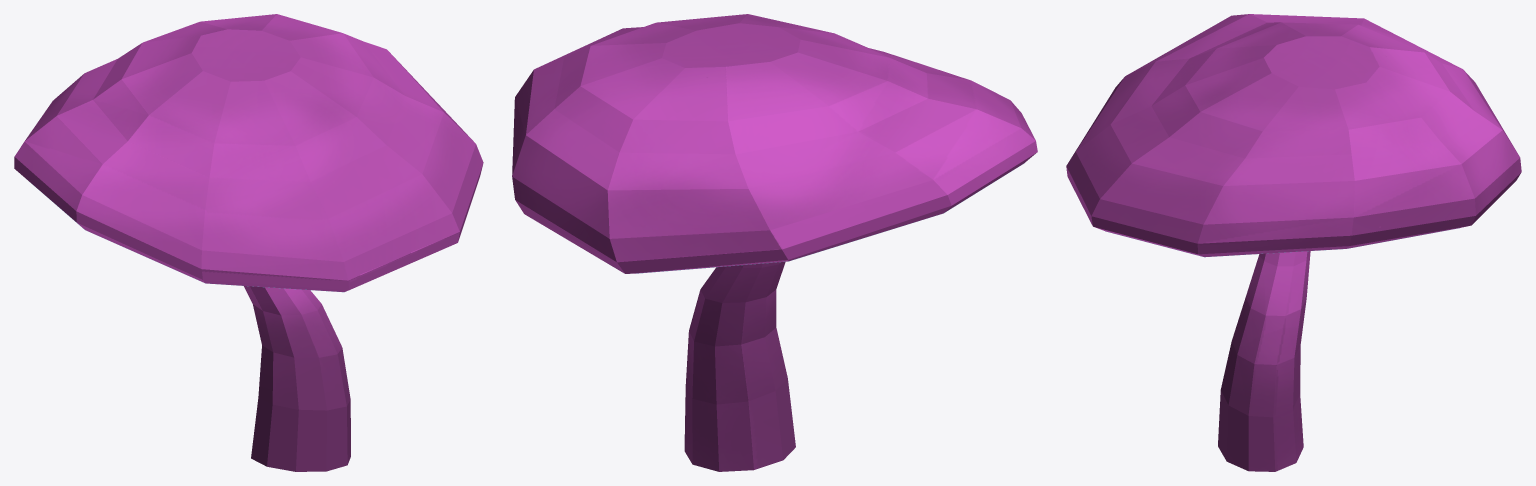
File: big_mushroom4.fbx
3 renders of one model, left to right at view 1: azimuth 30°, elevation 25°; view 2: azimuth 150°, elevation 25°; view 3: azimuth 270°, elevation 25°, orthographic. The views are drawn at different scales.
Visible parts, largest first — view 1: Cylinder.003; view 2: Cylinder.003; view 3: Cylinder.003.
Part boxes in pixels (bbox=[...]): Cylinder.003: bbox=[14, 14, 483, 471]; Cylinder.003: bbox=[512, 14, 1037, 471]; Cylinder.003: bbox=[1066, 14, 1521, 471].
Bounding box in the file's own units: 1431 × 1368 × 1469.
